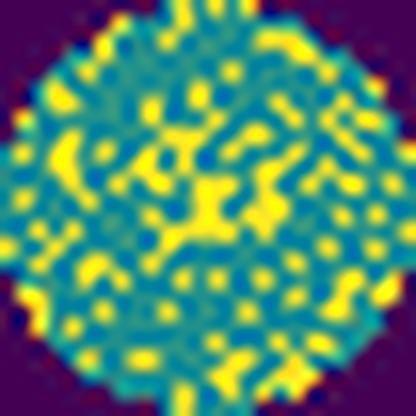Center: (112, 119, 310, 273)
